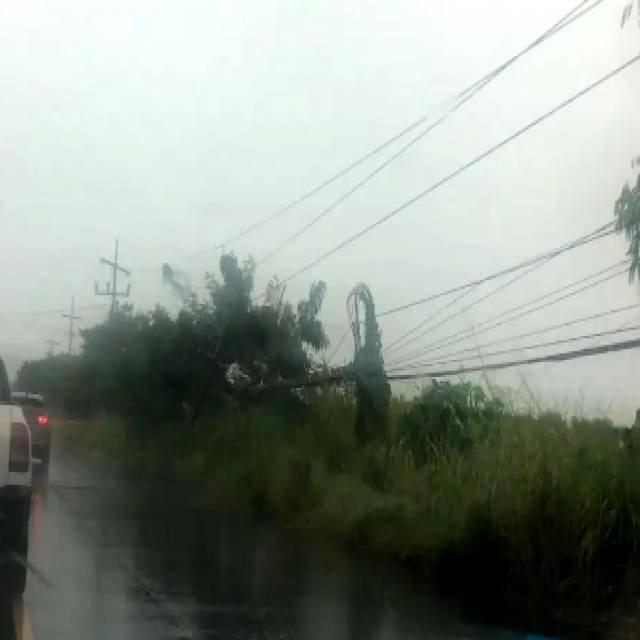Broken Pole: (180, 283, 392, 452)
